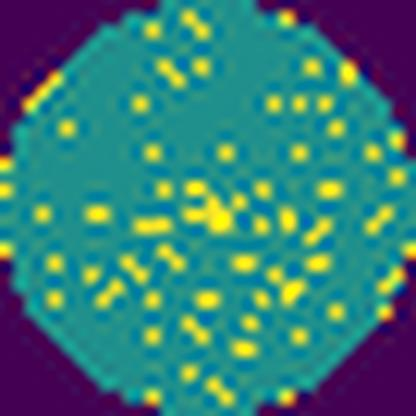Center: (176, 170, 251, 234)
